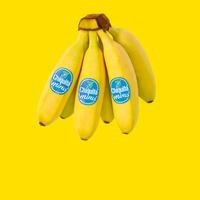banane: (38, 10, 163, 137)
